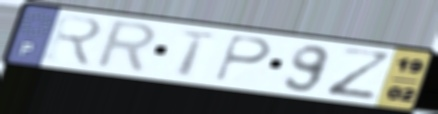9: (282, 43, 333, 94)
P: (212, 33, 275, 83)
R: (91, 18, 161, 77), (42, 11, 106, 69)
T: (175, 28, 220, 80)
Z: (323, 45, 398, 101)
